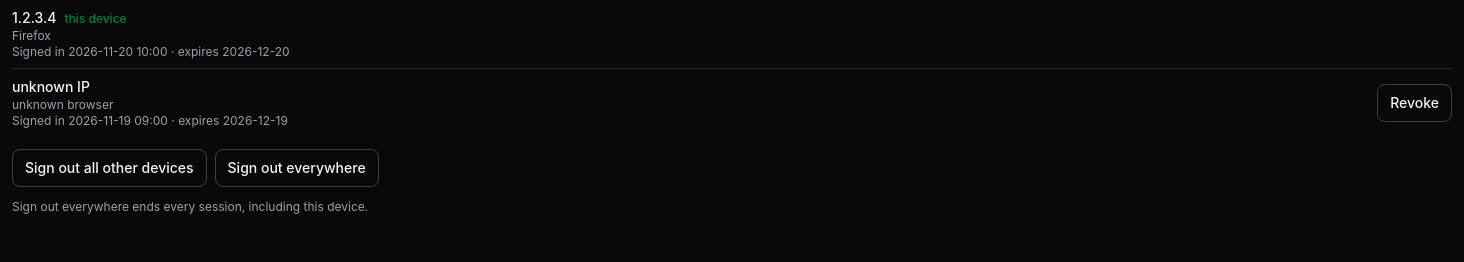
SessionActions › shows an error and does not refresh when revoking a session fails
Click the button "Revoke".
click(1415, 103)  # box 1377,84 -> 1452,122
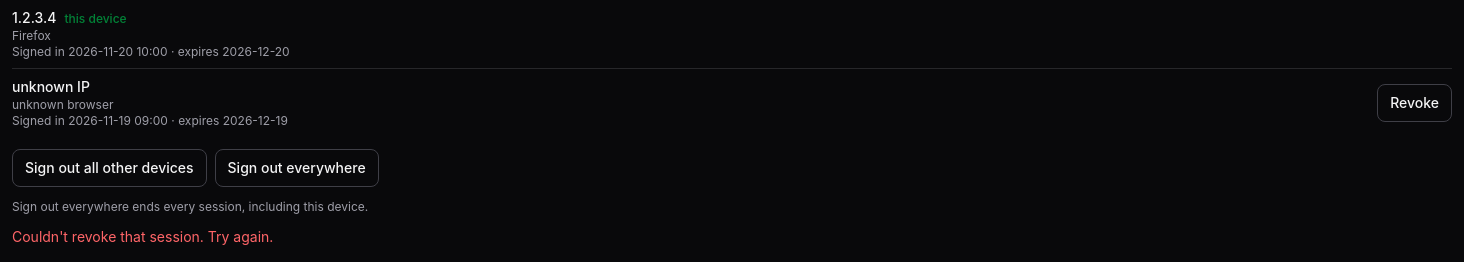
Check: the message shows "Couldn't revoke that session.", box 12,228 -> 273,245
